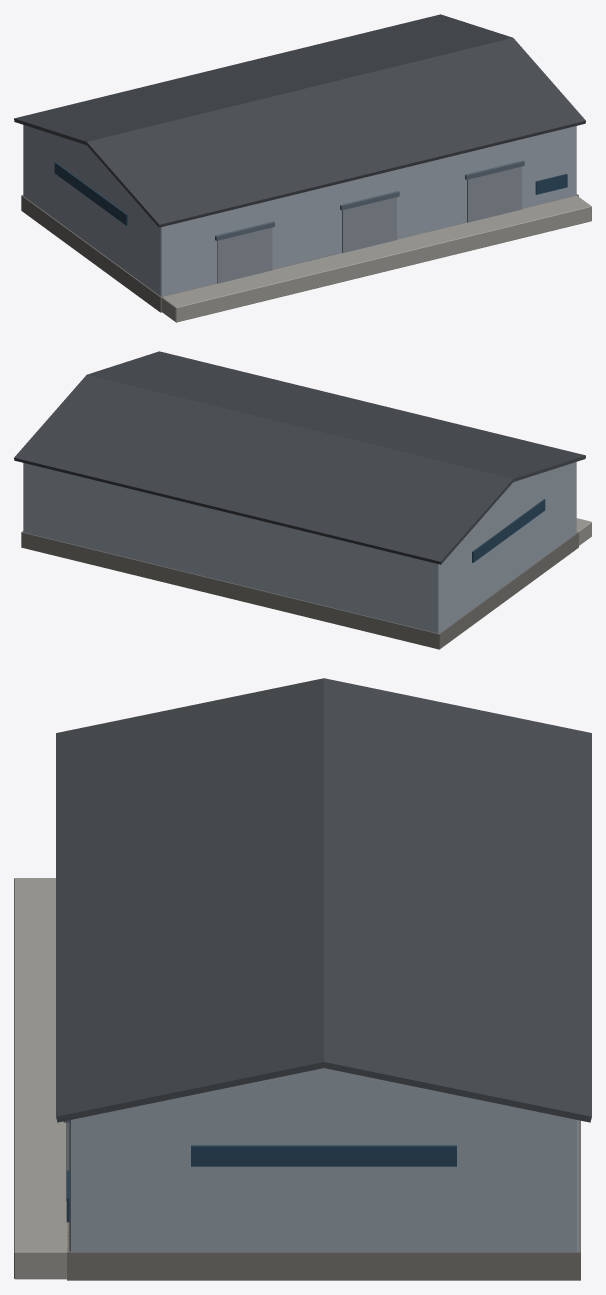
File: Scenery_Warehouse.fbx
3 views of the same model, one above another, from view 1: azimuth 30°, elevation 25°; view 2: azimuth 150°, elevation 25°; view 3: azimuth 270°, elevation 25° (orthographic). The views are drawn at different scales.
Parts seen in each view (by area): view 1: Scenery_Warehouse; view 2: Scenery_Warehouse; view 3: Scenery_Warehouse.
Boxes of the visible parts, <box> form: Scenery_Warehouse: <box>14,14,591,322</box>; Scenery_Warehouse: <box>14,351,591,649</box>; Scenery_Warehouse: <box>14,678,591,1280</box>.
Size of the model in its own units: 41 by 11.09 by 26.1.
